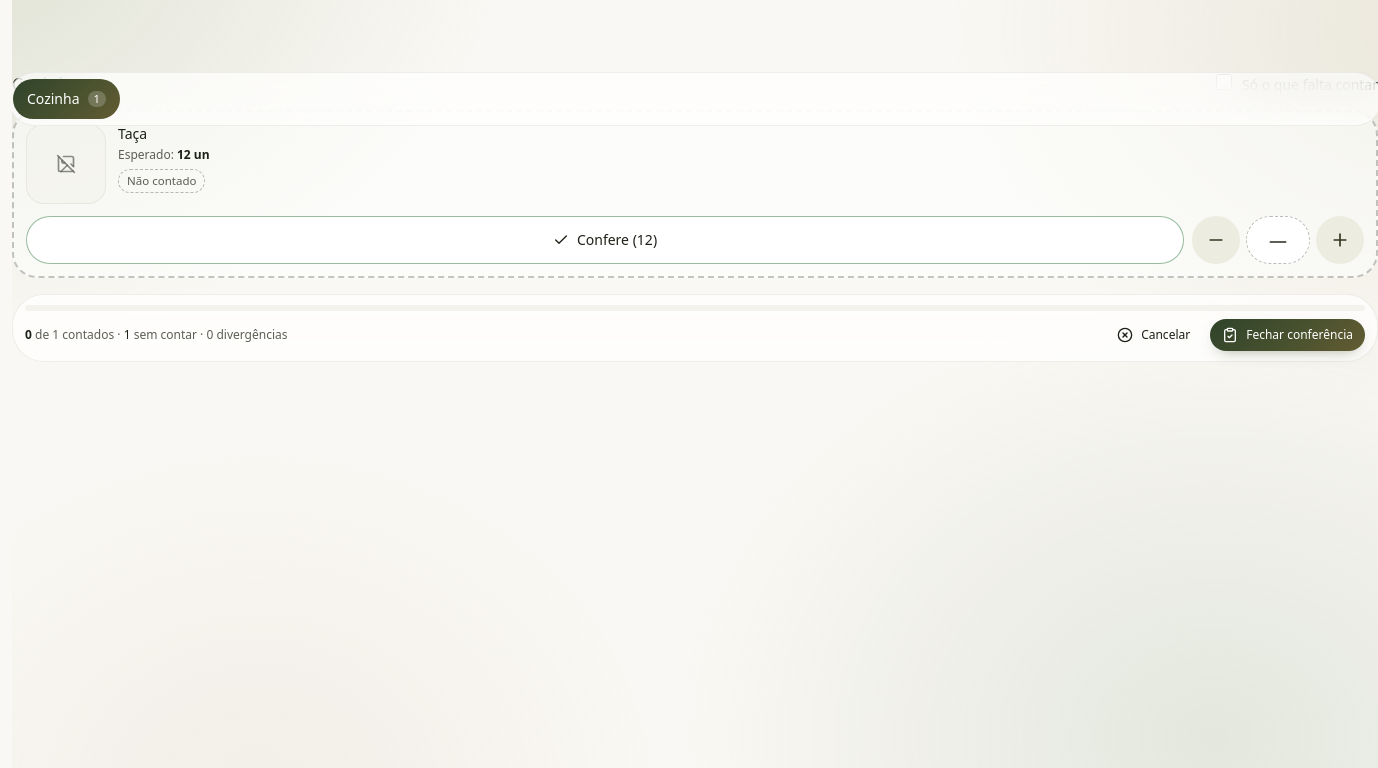
TelaDeContagem — otimista, com volta › três toques seguidos: a tela muda na hora e grava uma vez, com o número final
Click the button named "Um a mais de Taça".
click(1340, 240)  # box [1316, 216, 1364, 264]
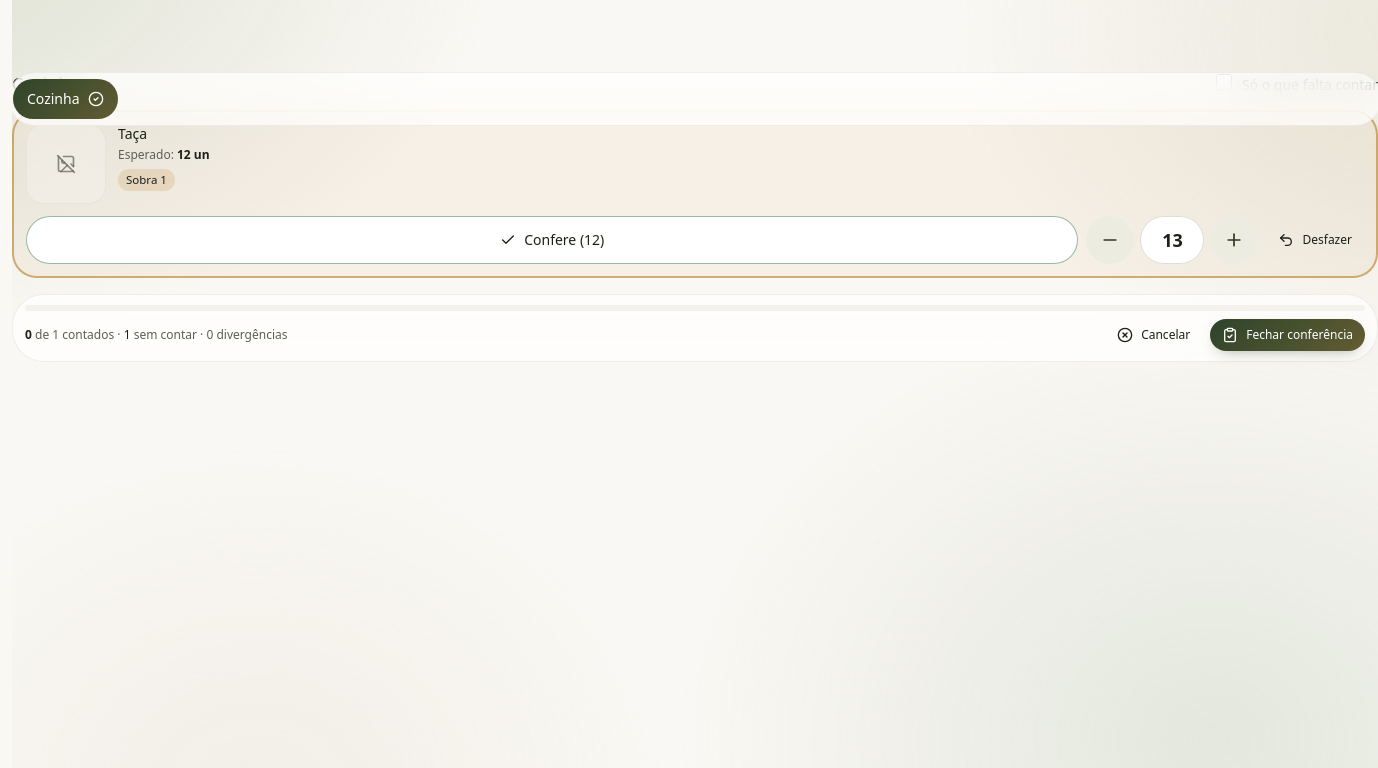
Click the button named "Um a mais de Taça".
click(1234, 240)  # box [1210, 216, 1258, 264]
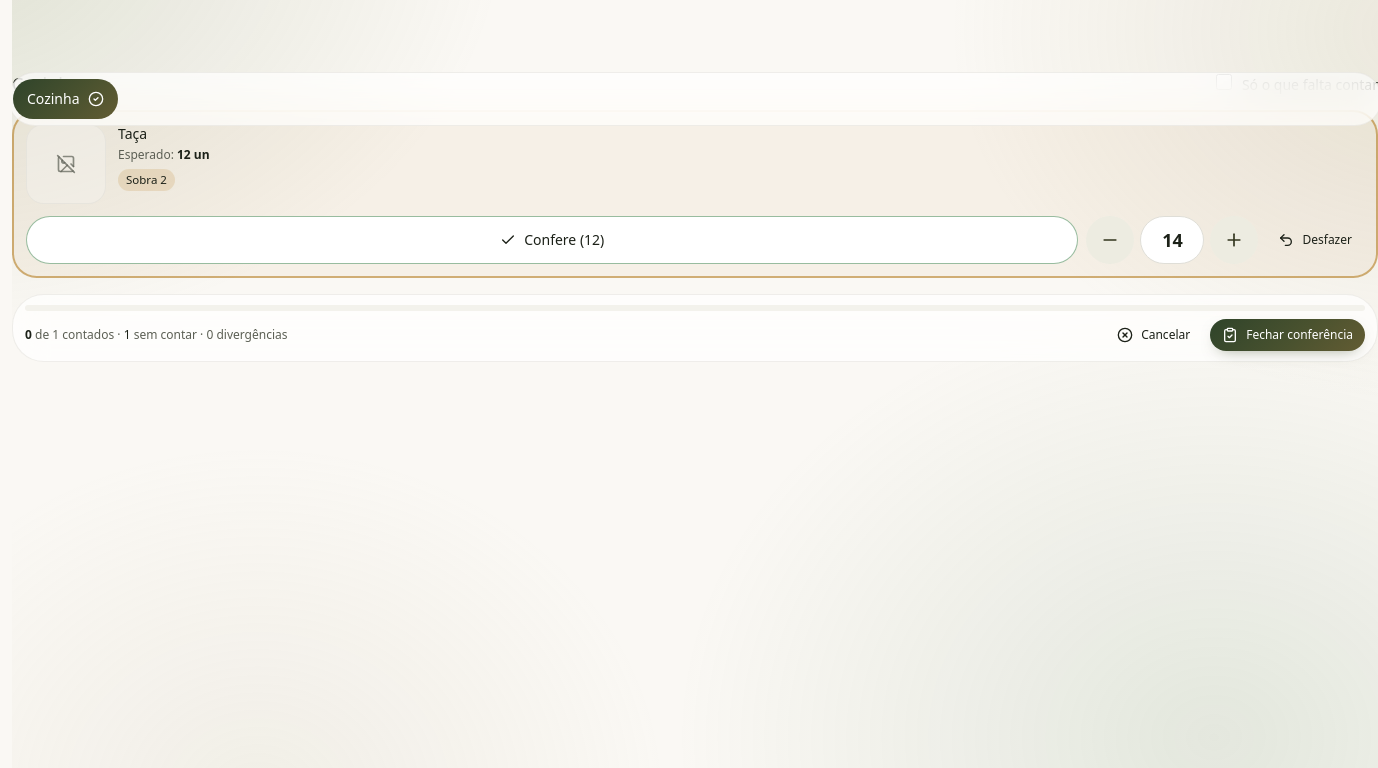
Click the button named "Um a mais de Taça".
click(1234, 240)  # box [1210, 216, 1258, 264]
Wait 400 ms
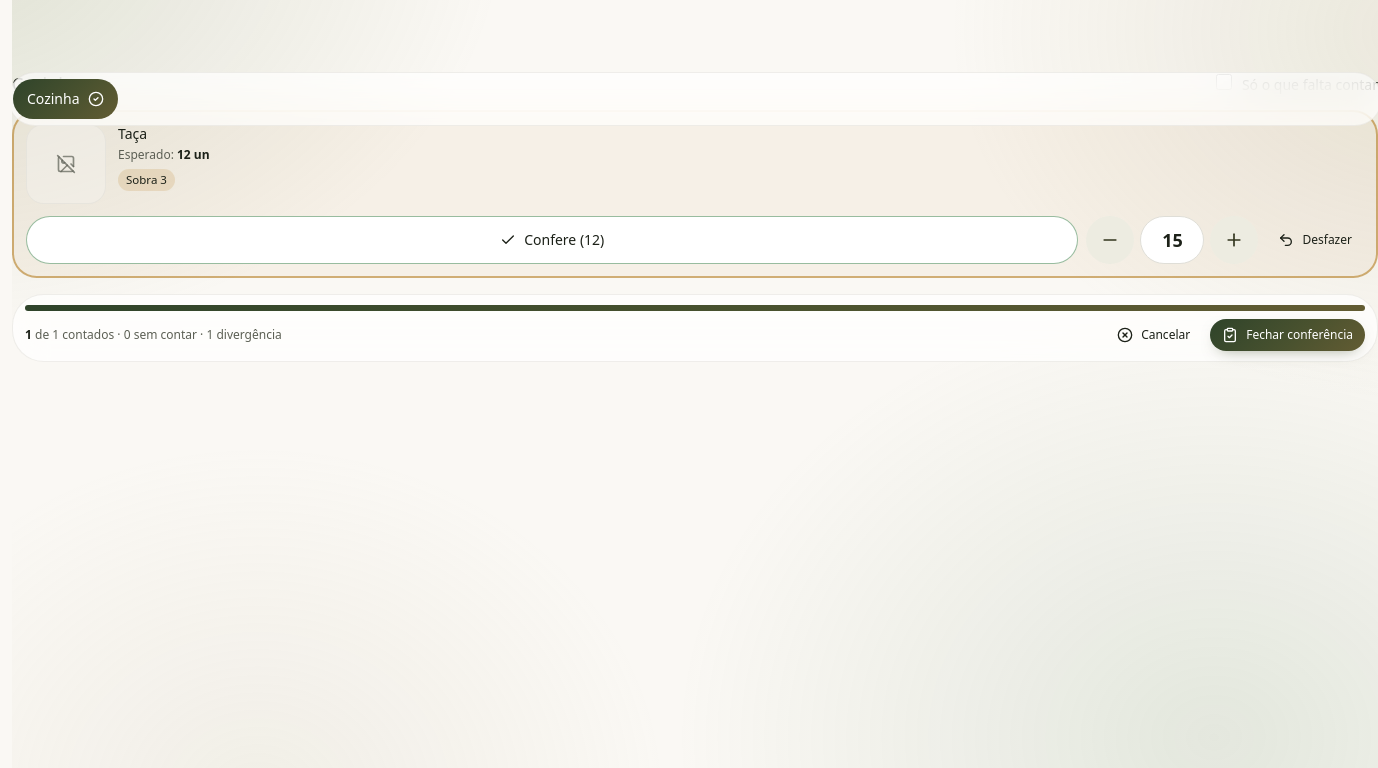
Check: the field named "Quantidade contada de Taça" holds "15", box [1140, 216, 1204, 264]
